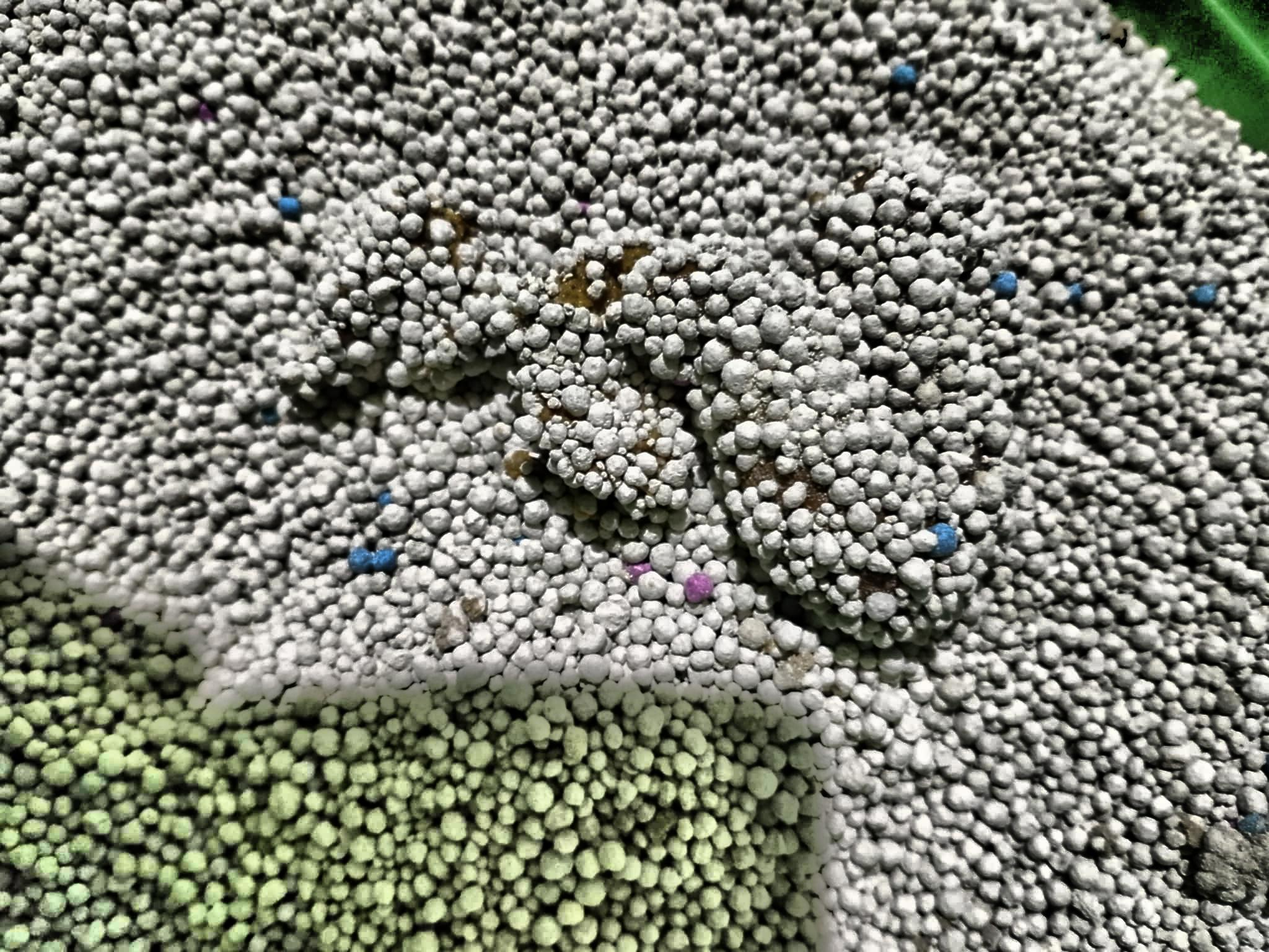poop: (283, 153, 1025, 641)
